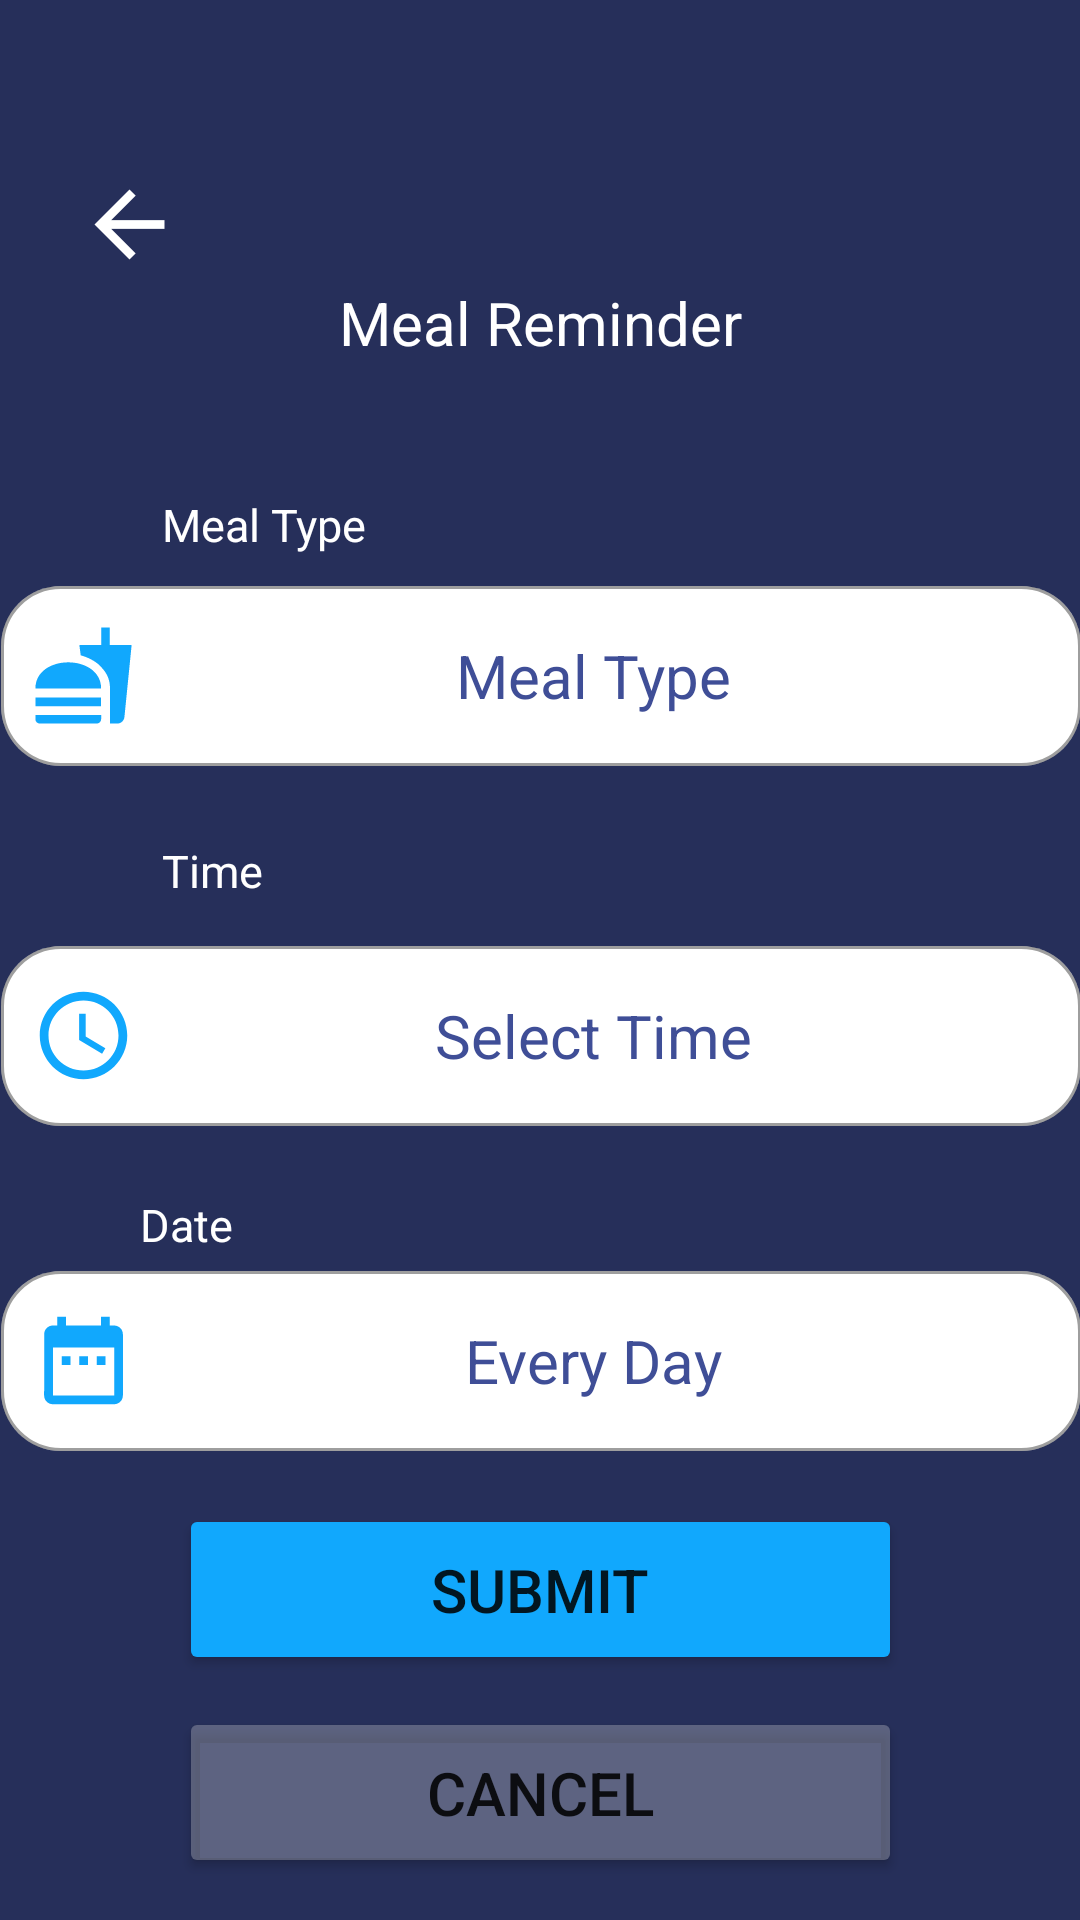

Icons on this 1080 x 1920 Android screen, each with the point to tap as [x,y]:
back: [129,224]
